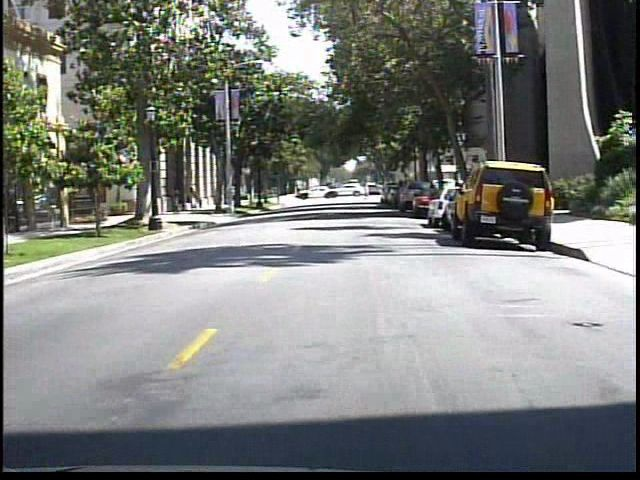person: (186, 185, 206, 218), (168, 183, 185, 217), (360, 181, 374, 203)
